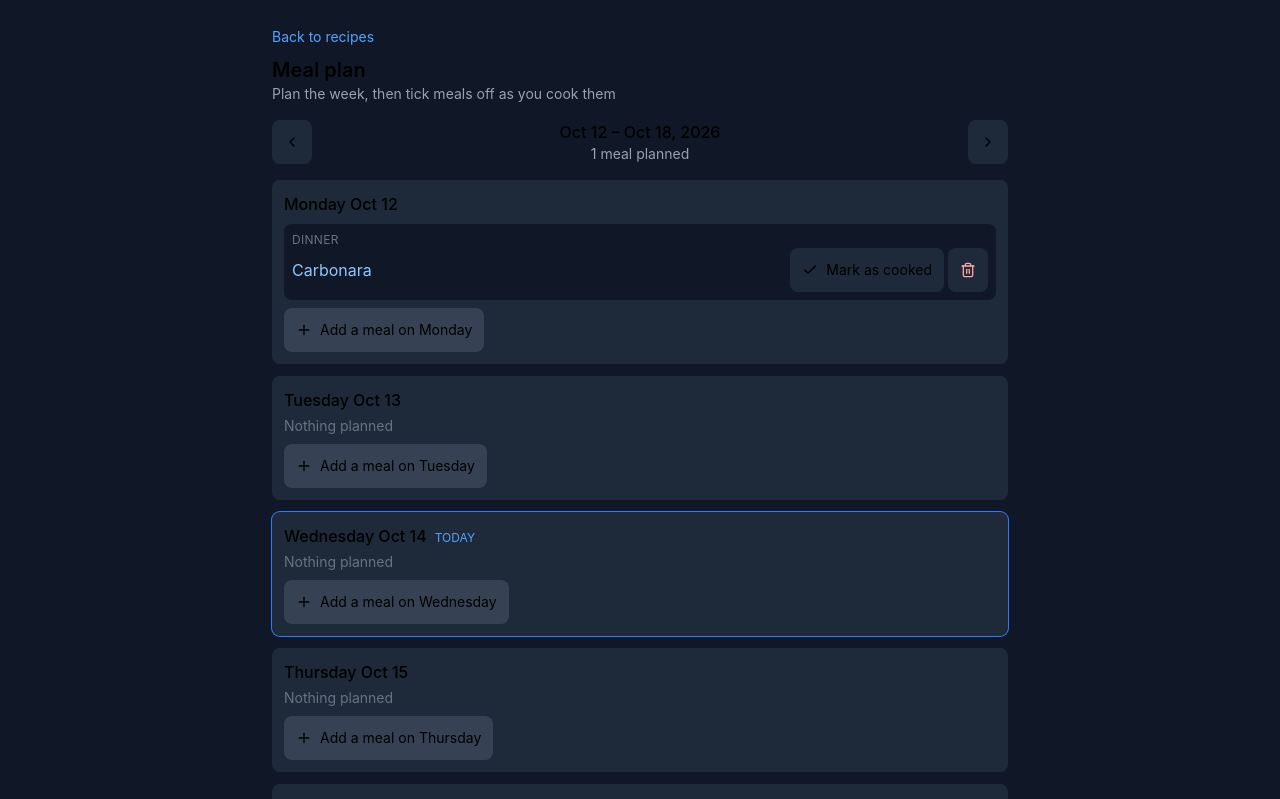
Test case: MealPlanner › narrows the picker as the user types
The width and height of the screenshot is (1280, 799).
Click the button "Add a meal on Tuesday" at (385, 466), box 284,444 -> 487,488
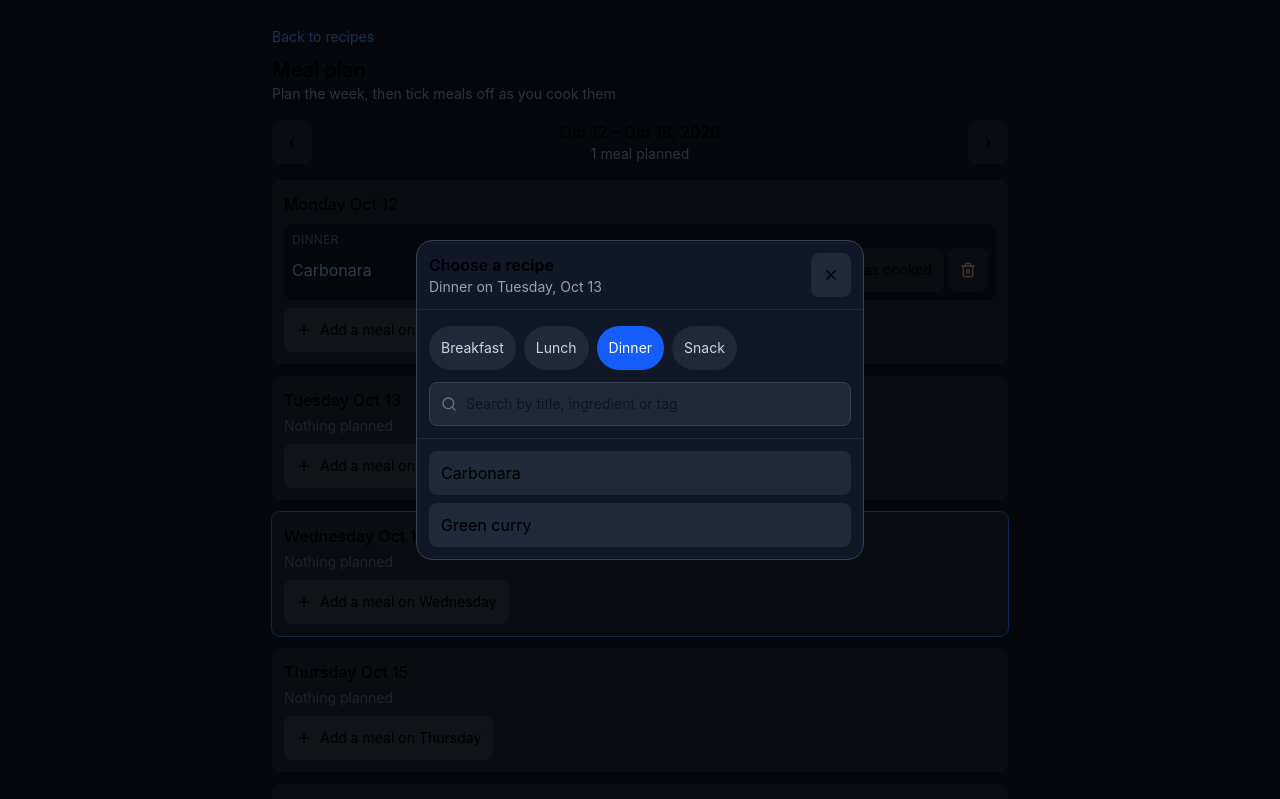
Type "curry" into the search field named "Search recipes" at (640, 404), box 429,382 -> 851,426
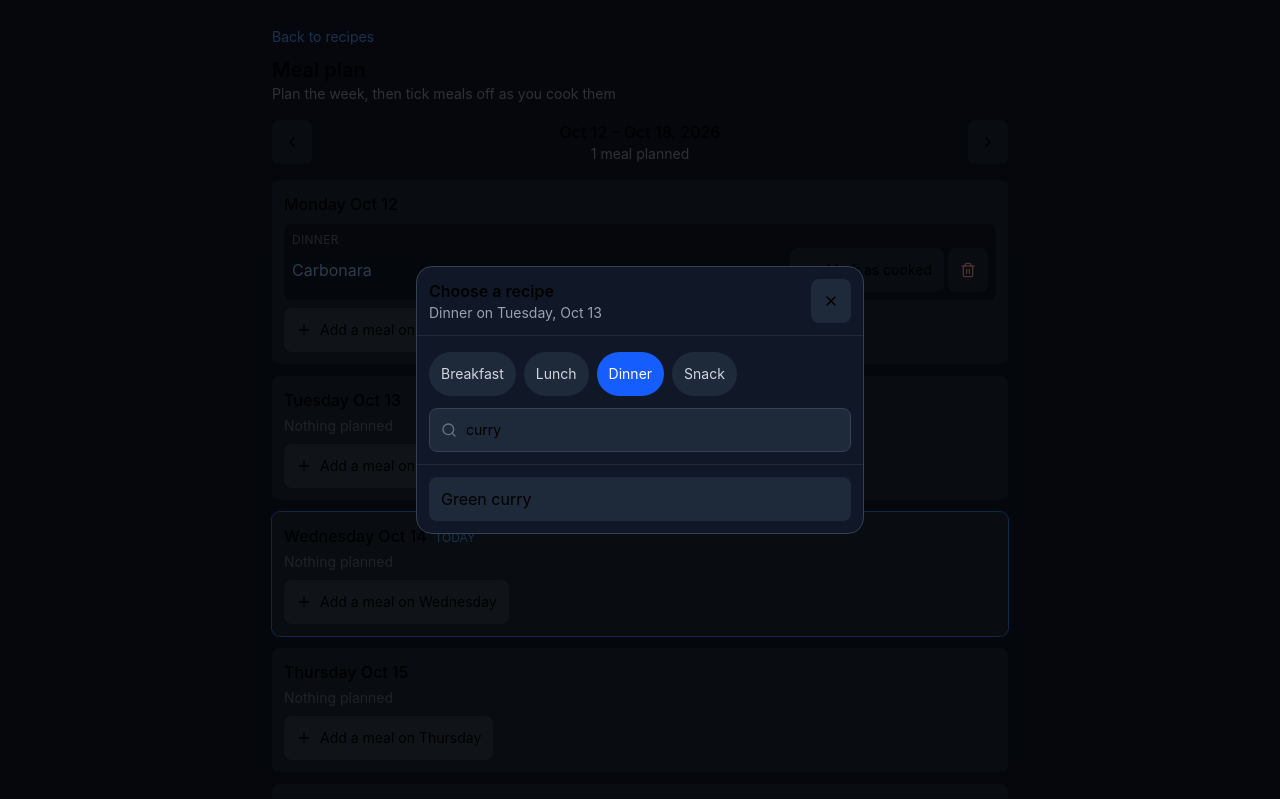
expect the button "Green curry" is shown: met, box 429,477 -> 851,521
Replace the text in the search field named "Search recipes" with "nothing matches this" at (640, 430), box 429,408 -> 851,452
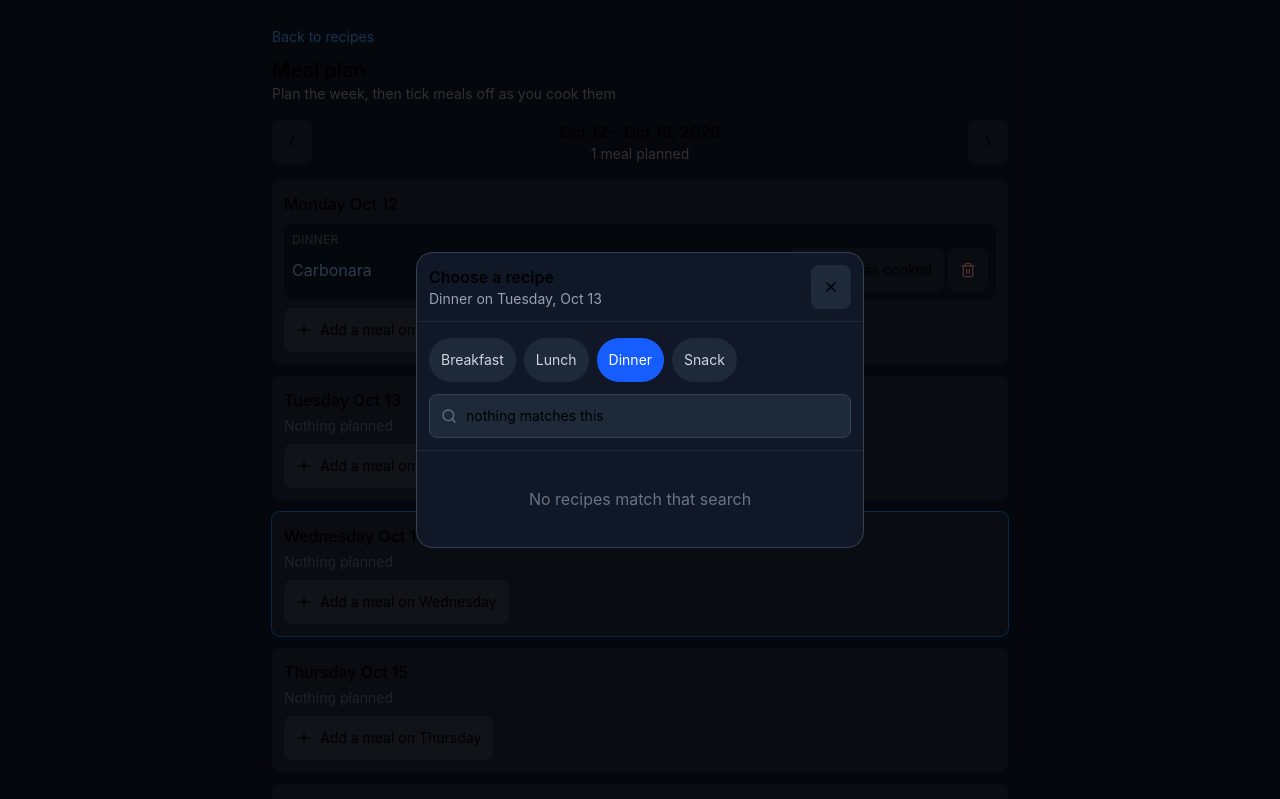
expect the text "No recipes match that search" is shown: met, box 529,489 -> 751,509
